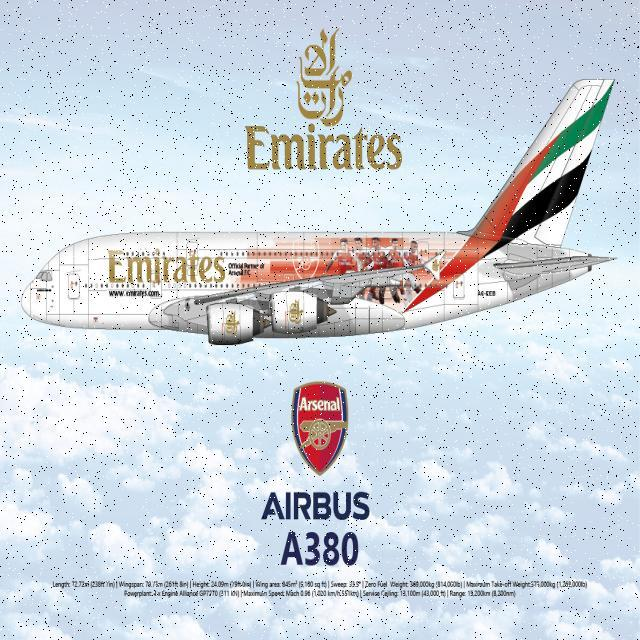Emirates: (244, 123, 403, 172), (107, 247, 226, 285)
